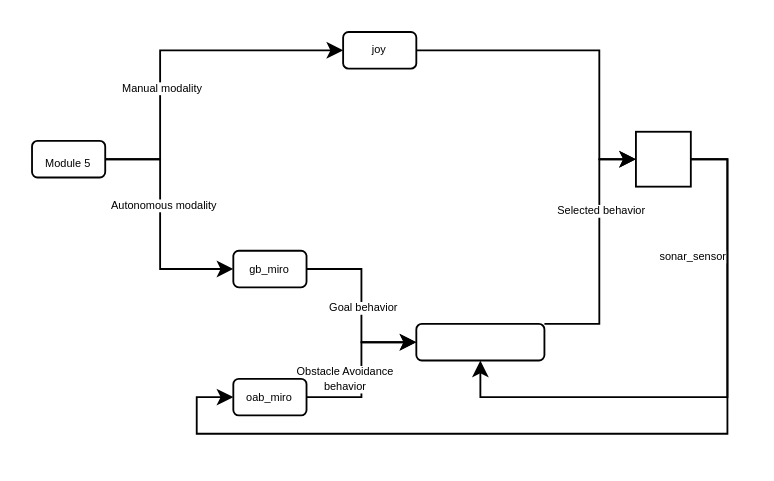
Image size: 774x481. Some labels were removed from this diagram. Here are the shapes that lost their labels. From the top down, the centre of each, then its label:
pixel 662 158: MiRo Robot
pixel 479 341: switching_behavior_miro
